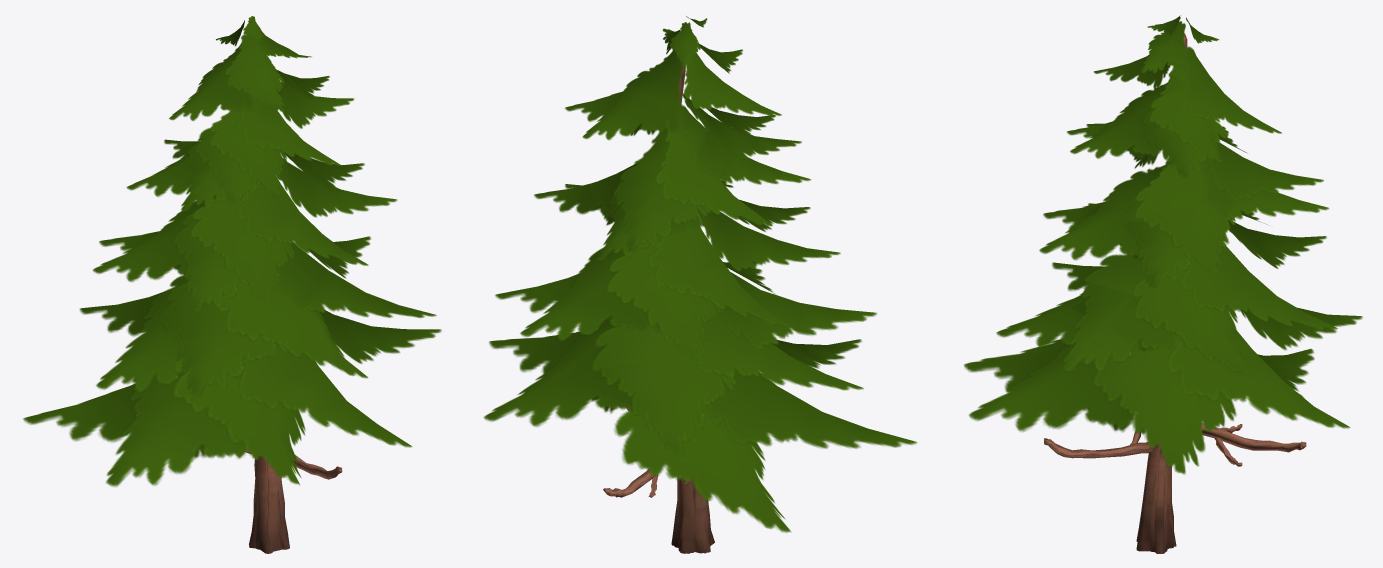
File: Pine_ultra_fast.glb
The picture shows the model from 3 angles, left to right: view 1: azimuth 30°, elevation 25°; view 2: azimuth 150°, elevation 25°; view 3: azimuth 270°, elevation 25°; orthographic projection. The views are drawn at different scales.
Parts seen in each view (by area): view 1: Pine_2; view 2: Pine_2; view 3: Pine_2.
Boxes of the visible parts, x1,y1,x2,y2 form: Pine_2: (23,16,441,553); Pine_2: (483,16,917,553); Pine_2: (964,15,1362,553).
Bounding box in the file's own units: 5.72 × 7.38 × 5.22.
Materials: 2 (2 with a texture image).
